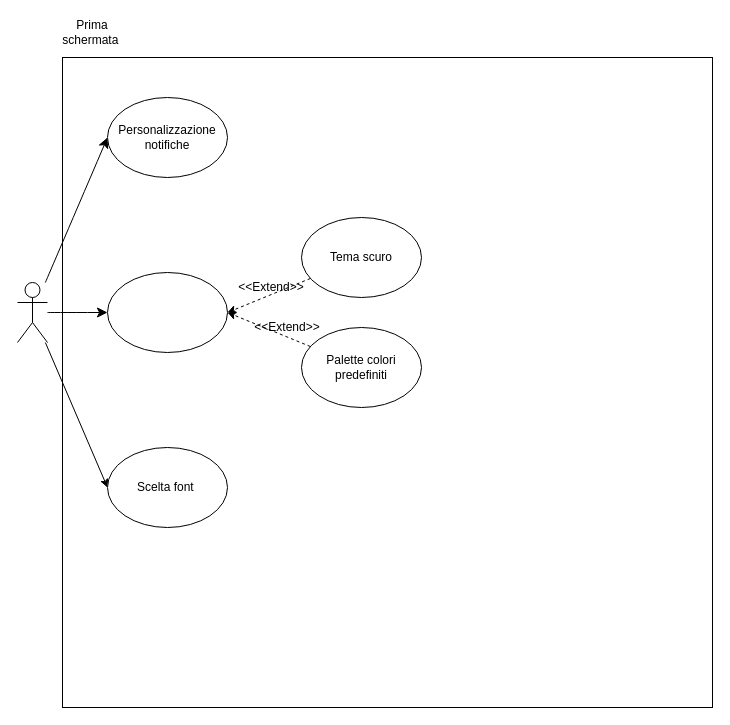
The diagram is 730 pixels wide and 725 high, and some of its shapes have lost their labels. The shapes that lost their labels are listed below. From the top down, each one's box as (x1, y1, x2, y2) in pixels, then its label:
(16, 282, 48, 342): Actor
(106, 272, 228, 352): Scelta tema
